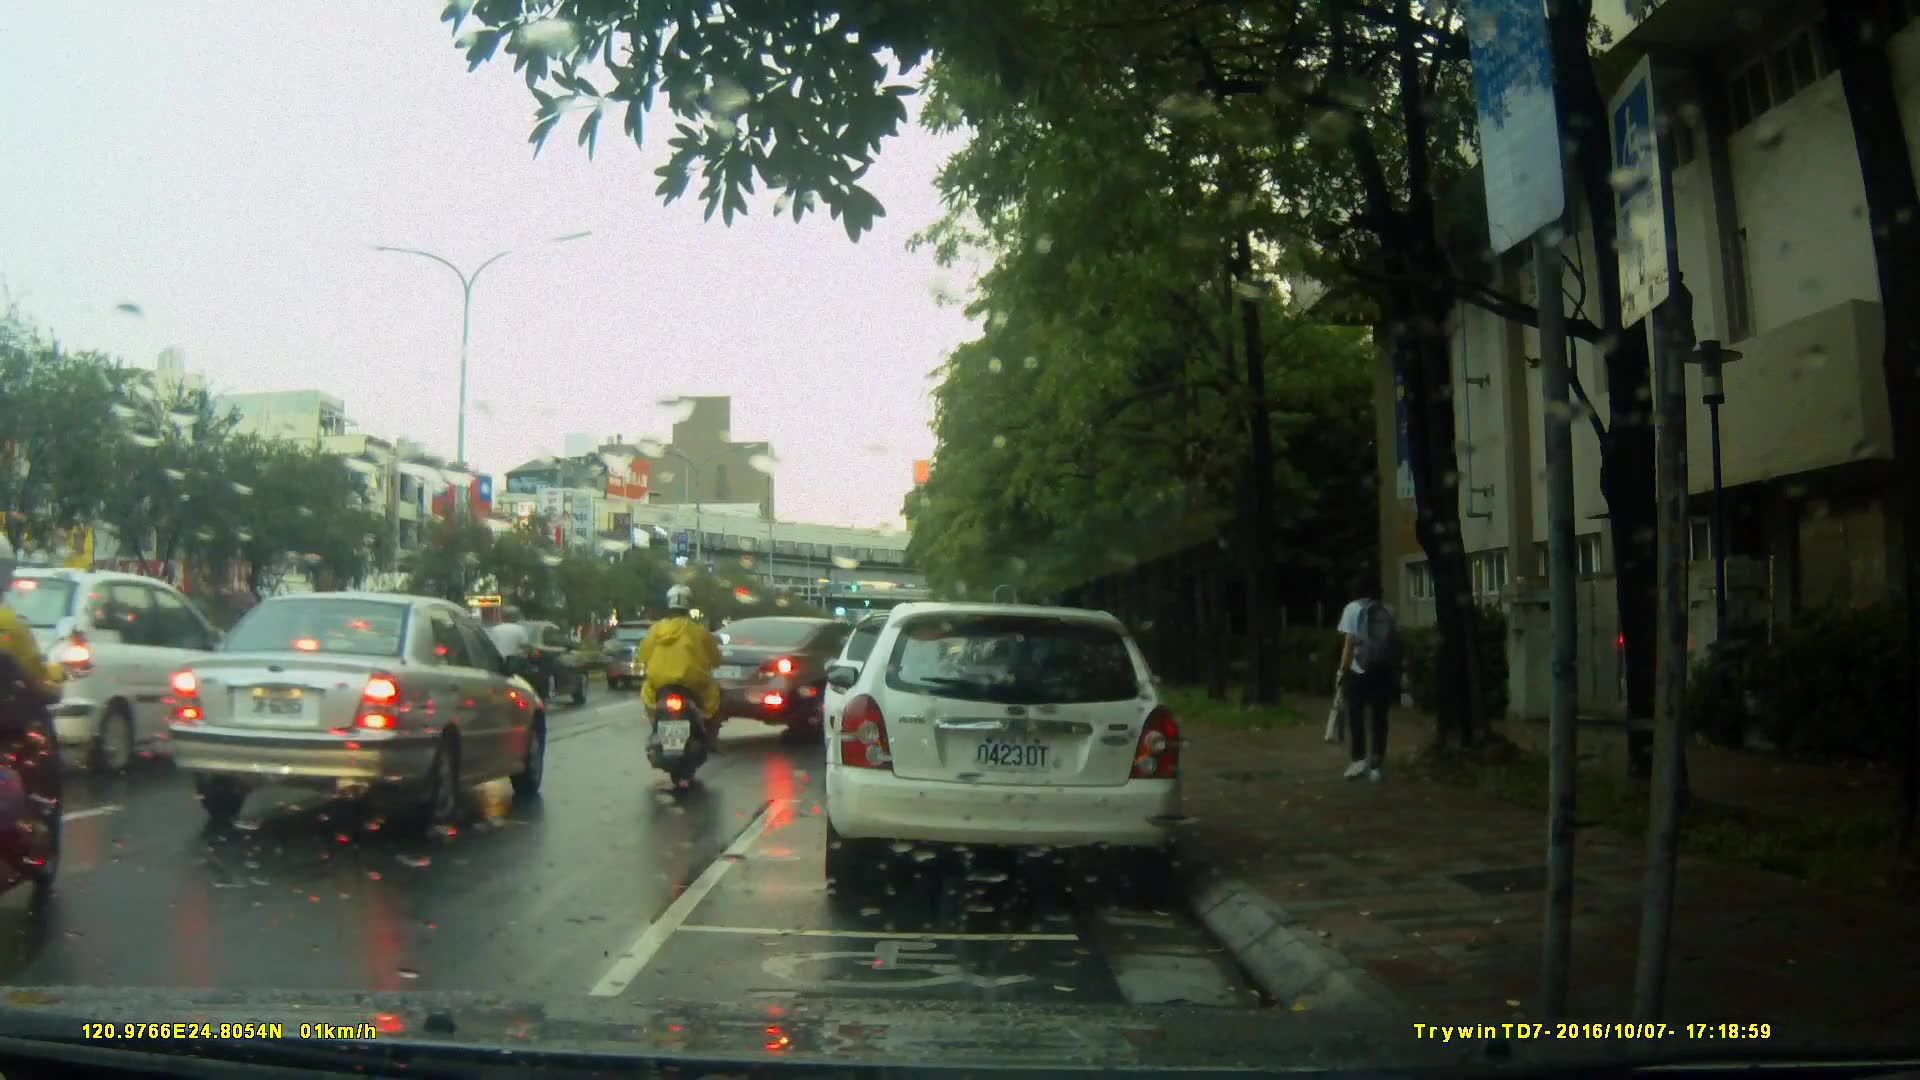pedestrian: (1330, 558, 1416, 796)
rider: (1, 532, 68, 887), (637, 583, 720, 788), (488, 602, 549, 713)
vehicle: (820, 602, 1188, 898), (161, 590, 553, 834), (1, 569, 256, 777), (677, 614, 902, 750), (455, 618, 595, 708)
